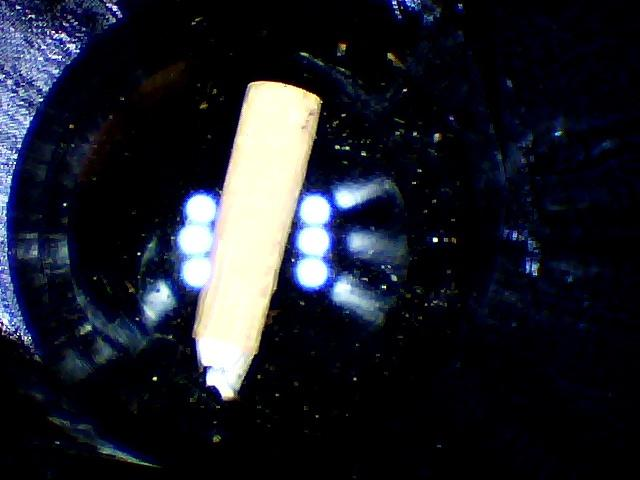megot: (172, 77, 329, 408)
